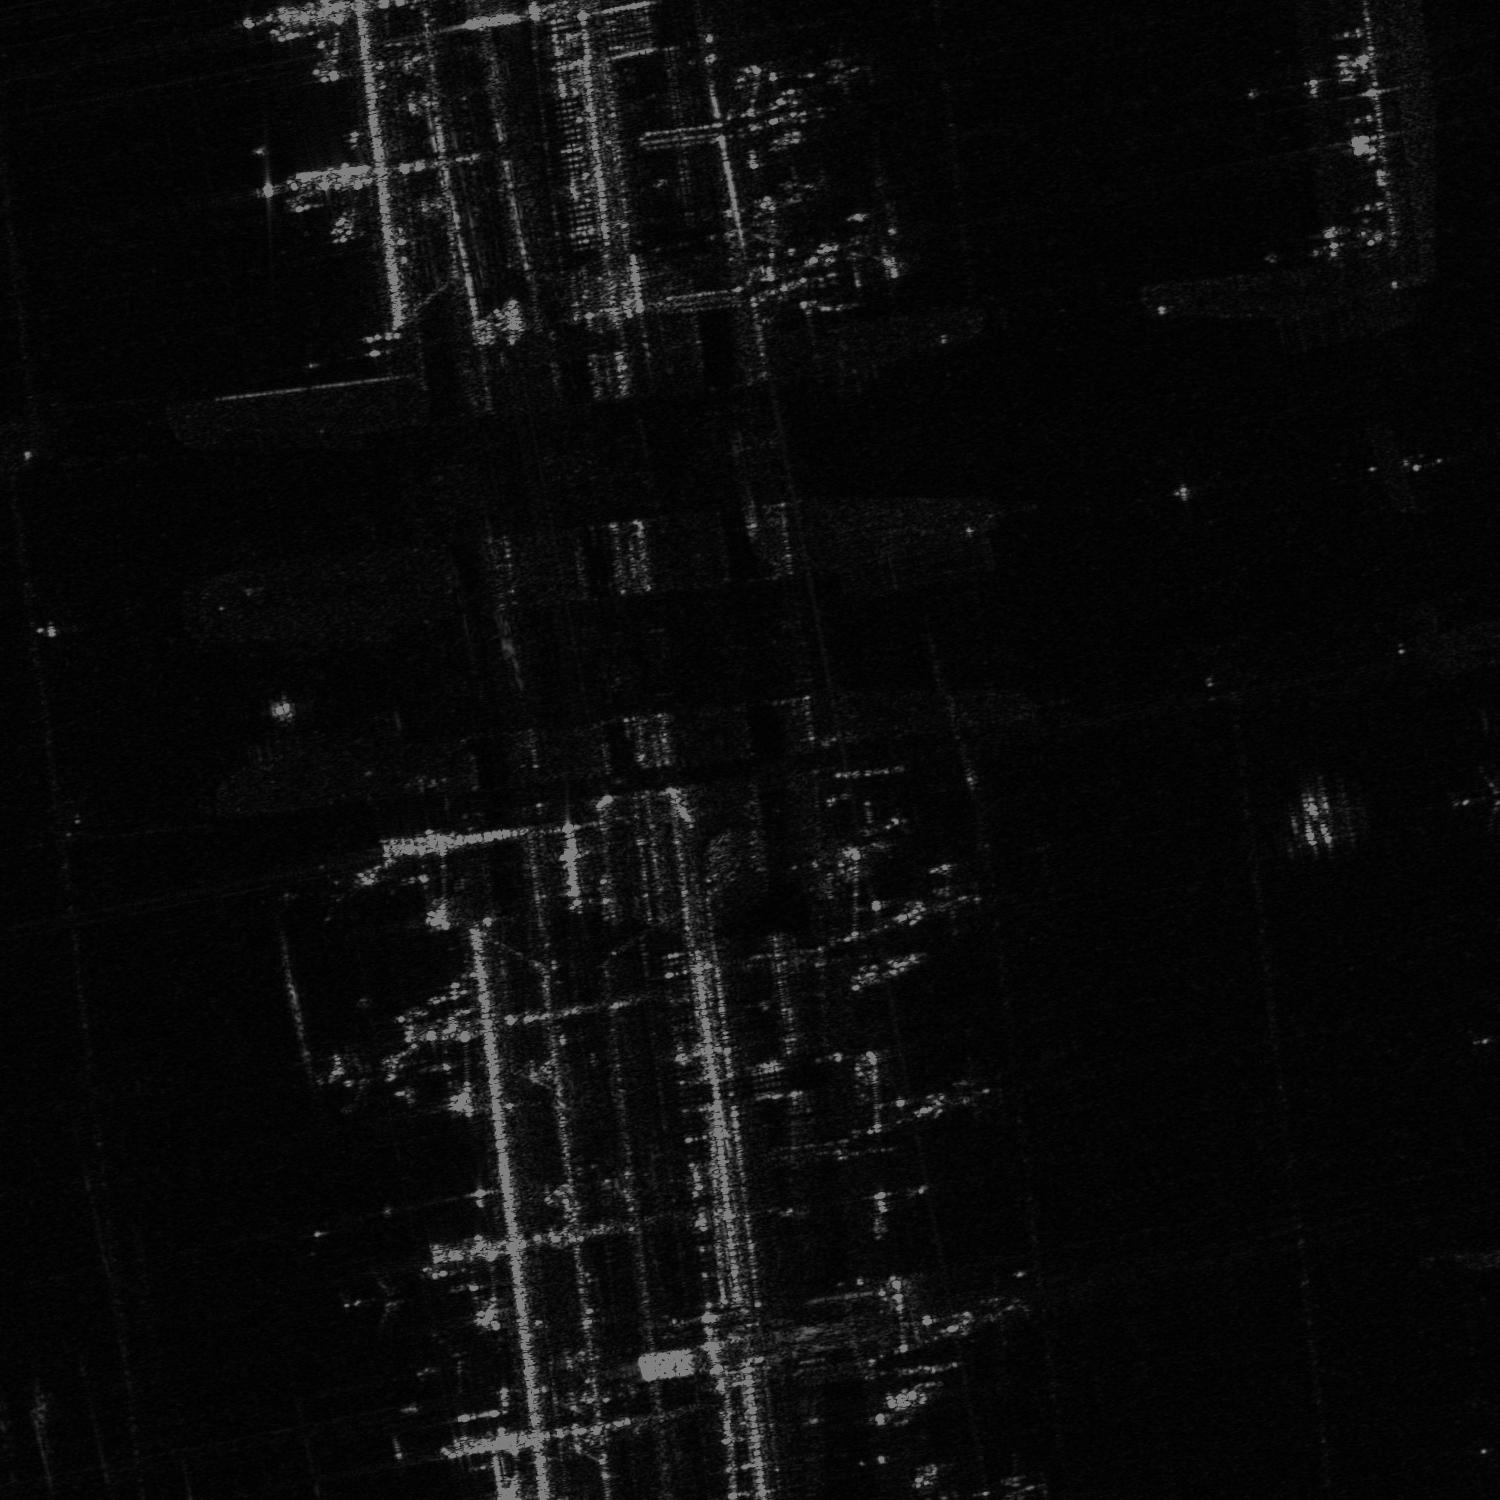Boeing737: (843, 227, 909, 287), (852, 799, 909, 856)
Boeing787: (343, 1268, 415, 1337), (411, 1330, 479, 1396)
